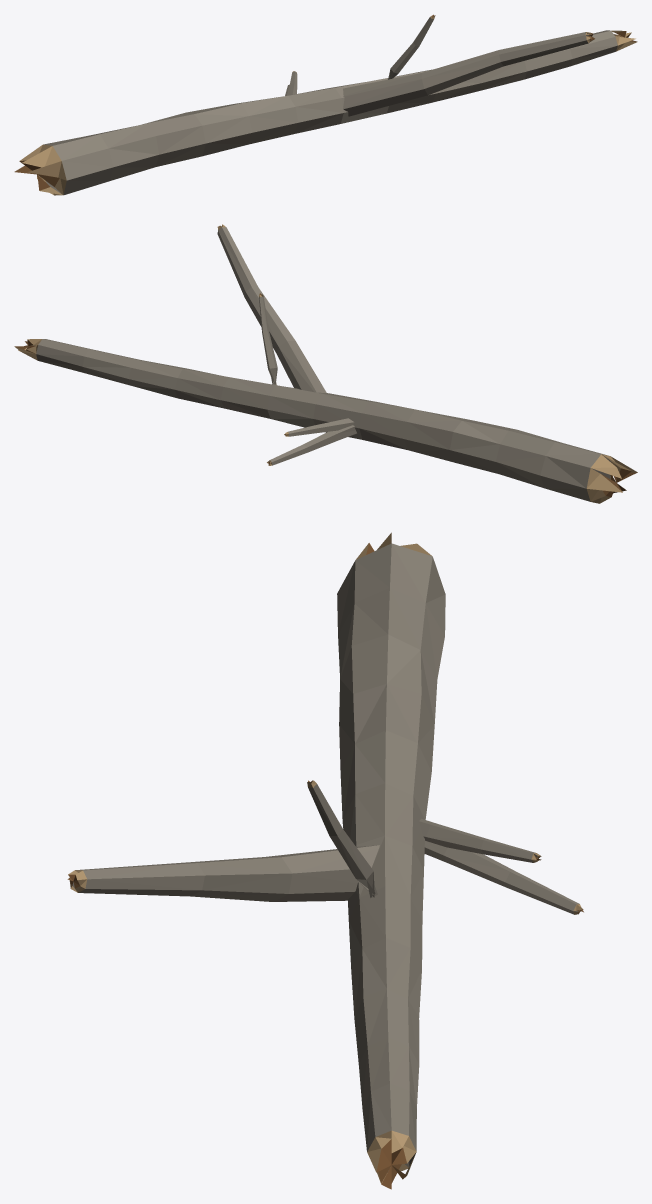
File: driftwood-3.glb
3 views of the same model, one above another, from view 1: azimuth 30°, elevation 25°; view 2: azimuth 150°, elevation 25°; view 3: azimuth 270°, elevation 25° (orthographic). The views are drawn at different scales.
Visible parts, largest first — view 1: driftwood; view 2: driftwood; view 3: driftwood.
Boxes of the visible parts, x1,y1,x2,y2 form: driftwood: (14, 14, 637, 195); driftwood: (14, 224, 637, 503); driftwood: (67, 532, 583, 1189).
Bounding box in the file's own units: 5.72 × 0.9716 × 2.09.
